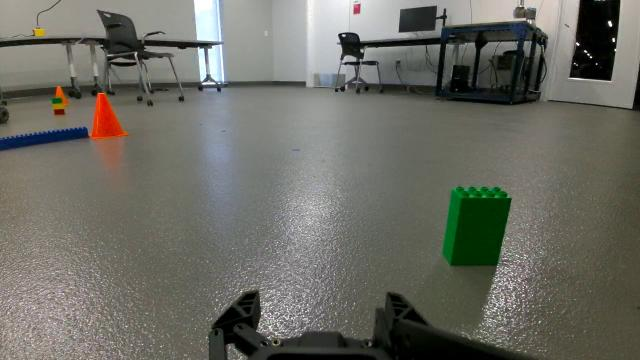lego: (426, 172, 532, 289)
